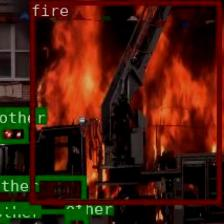fire: (30, 0, 220, 204)
